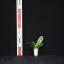leaf: (35, 36, 43, 47), (27, 42, 36, 48), (36, 43, 43, 48), (32, 42, 36, 47), (30, 46, 35, 48), (37, 47, 39, 48)
